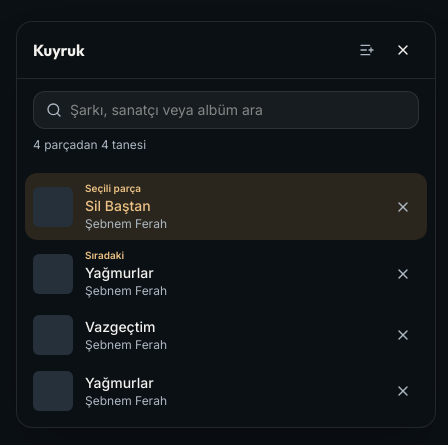
Test: queue panel with real player state › restores the exact duplicate entry and order without changing playback or seeking
Step 1. Click the 2nd button named "Yağmurlar parçasını kuyruktan kaldır" → click(403, 391), box [387, 375, 419, 407]
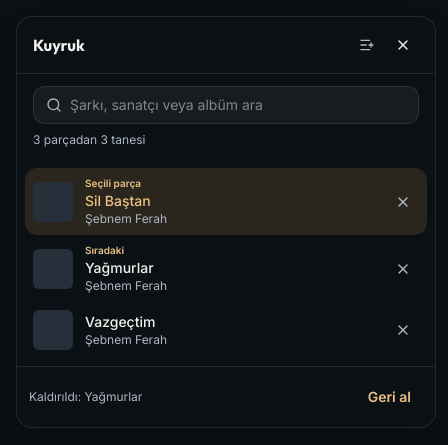
Step 2. Click the button "Geri al" → click(389, 397), box [356, 379, 423, 415]
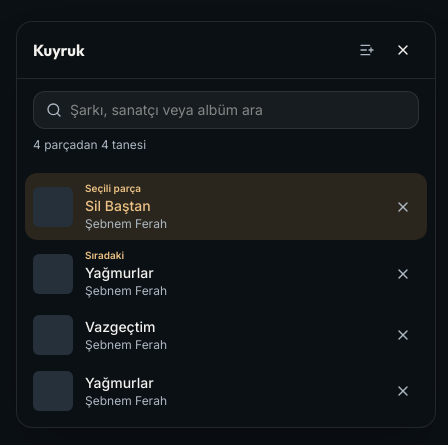
Result: the button "Geri al" is gone
